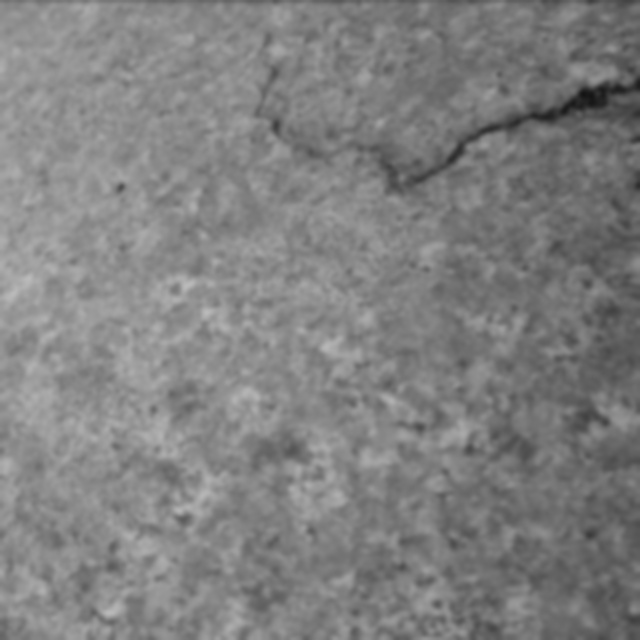SurfaceCrack: (201, 2, 640, 220)
